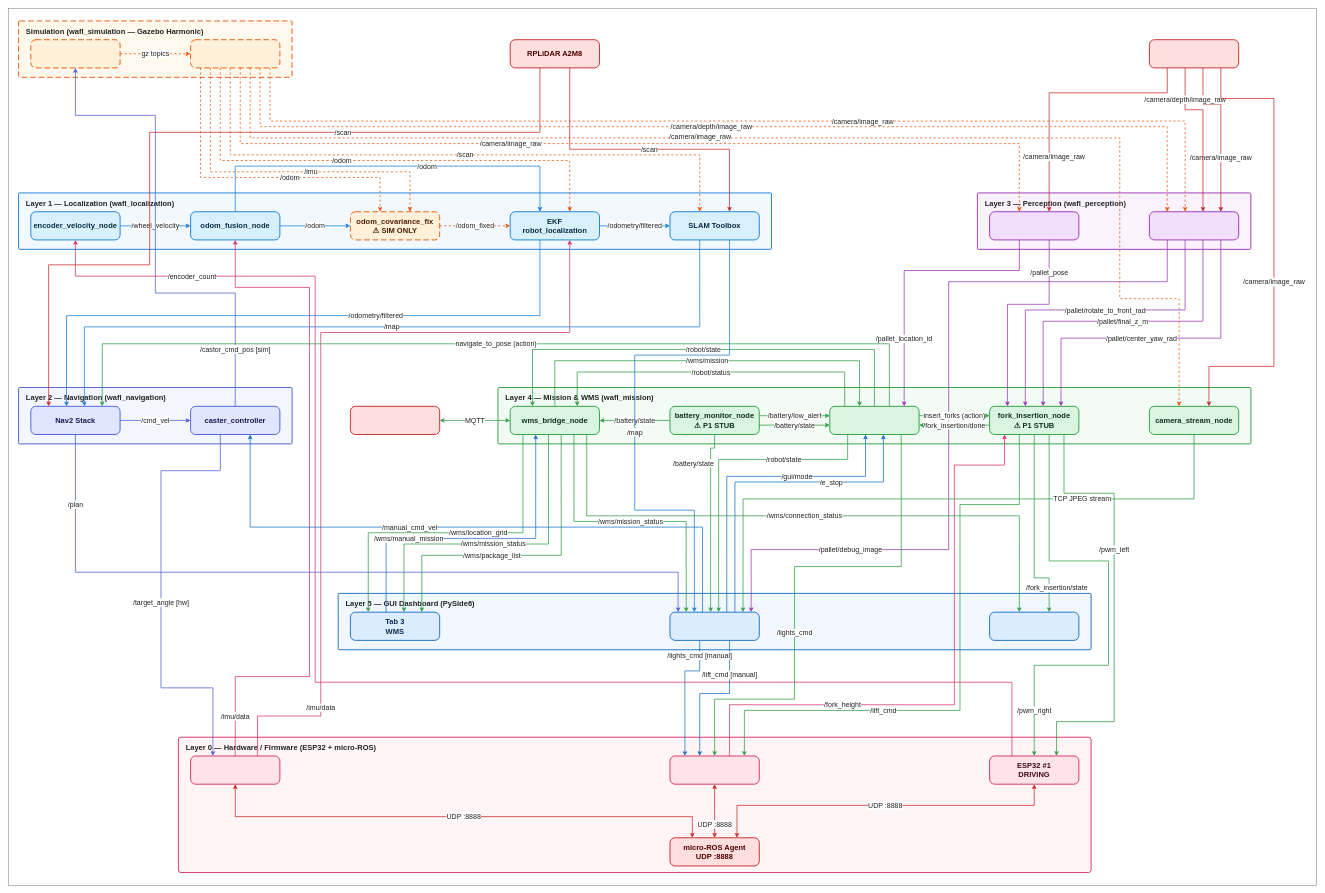
Some shapes in this 1325 by 893 pixel diagram are drawn without their labels. The shapes that lost their labels are listed below. From the top down, each one's centre as x and y in pixels, then its label:
the point at 75,53: Gazebo Harmonic warehouse world
the point at 235,53: ros_gz_bridge
the point at 1194,53: Kinect v1 front camera
the point at 1034,225: pallet_pose_node ArUco
the point at 1194,225: pallet_front_angle_node YOLO
the point at 395,420: WMS Server FastAPI stub / MQTT
the point at 874,420: mission_manager_node
the point at 714,626: Tab 1 Robot Control
the point at 1034,626: Tab 2 Logs
the point at 235,769: ESP32 #2 STEERING + IMU
the point at 714,769: ESP32 #3 LIFT + LIGHTS
